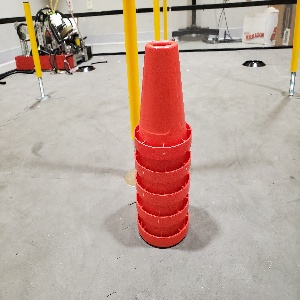Red_5: (133, 37, 190, 250)
